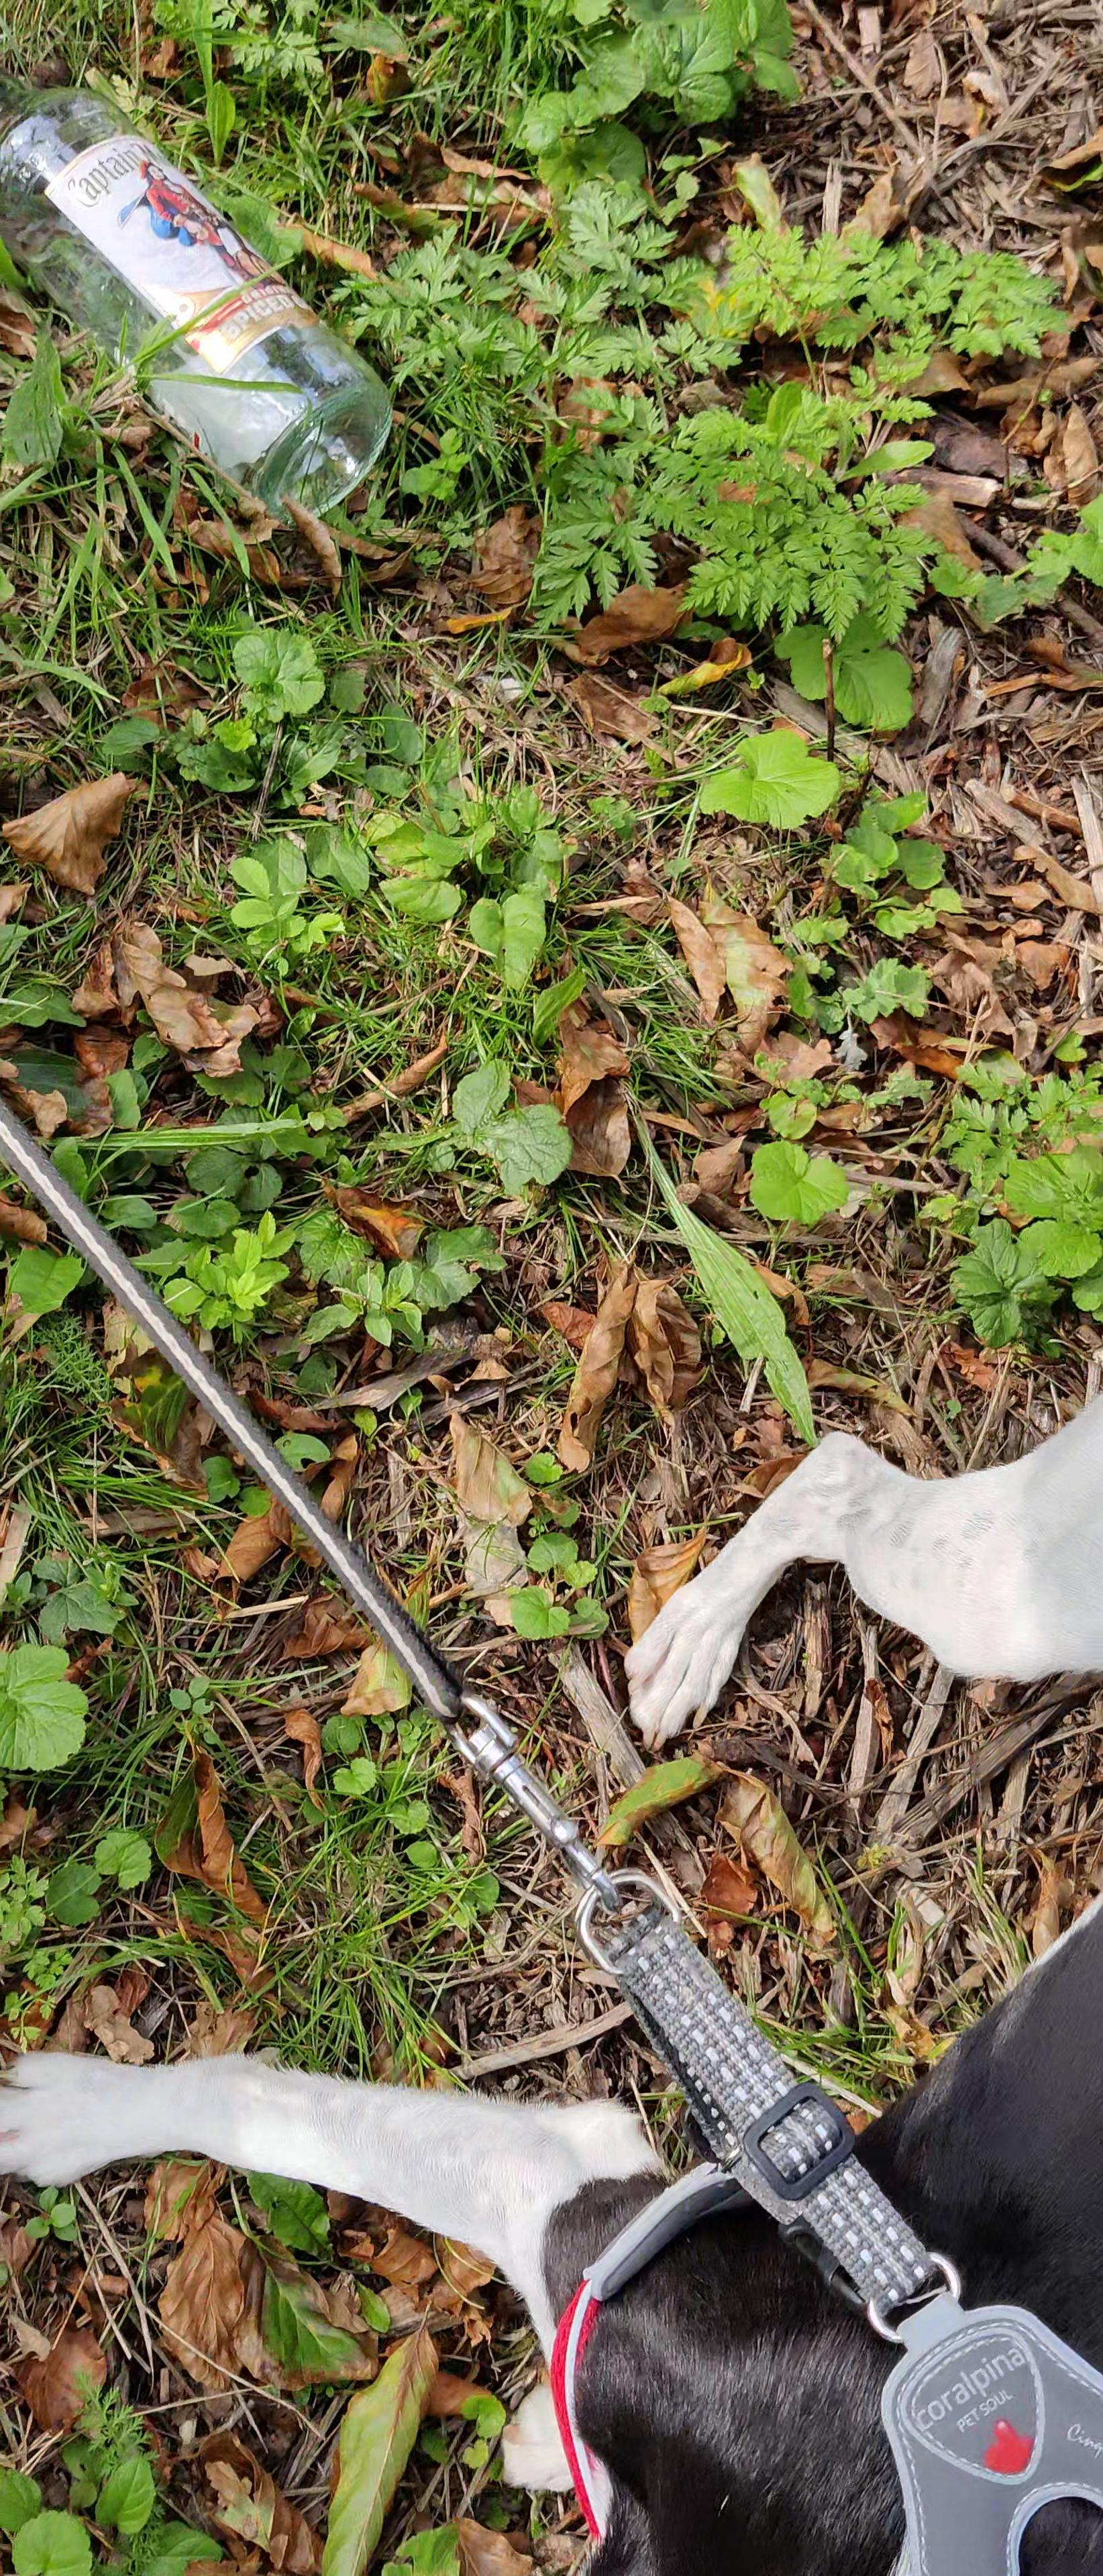Dog: (0, 1352, 1103, 2576)
